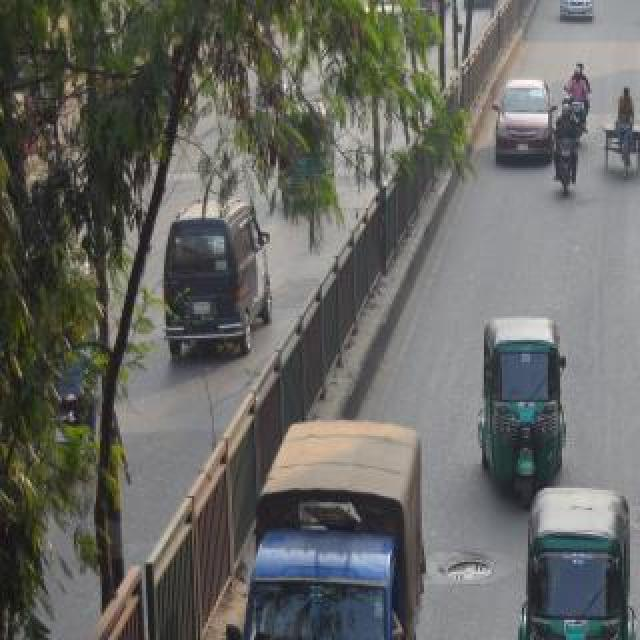car: (481, 68, 555, 180)
motorbike: (549, 102, 595, 226), (569, 38, 601, 136)
van: (222, 408, 410, 640), (148, 183, 284, 375)
